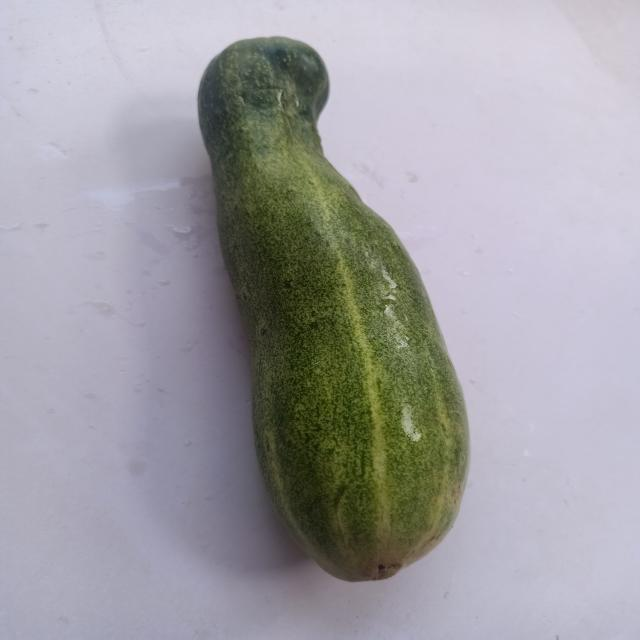Cucumber: (198, 36, 469, 582)
